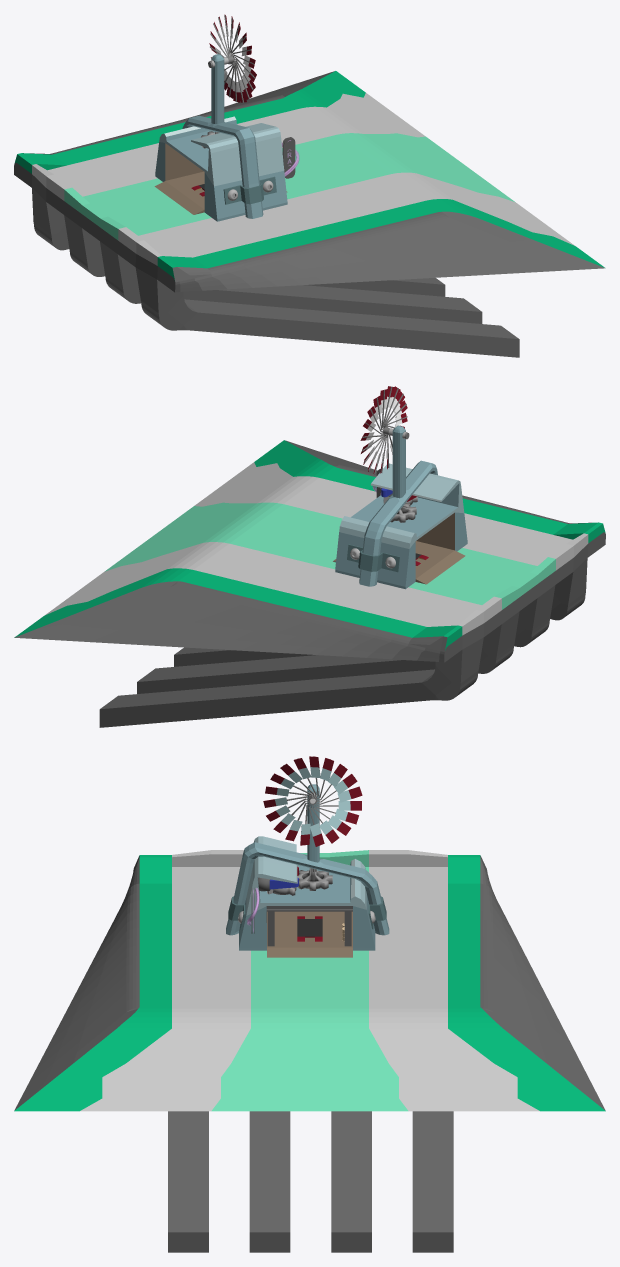
Rendered from garage.fbx.
The picture shows the model from 3 angles, top to bottom: view 1: azimuth 30°, elevation 25°; view 2: azimuth 150°, elevation 25°; view 3: azimuth 270°, elevation 25°; orthographic projection. The views are drawn at different scales.
Parts seen in each view (by area): view 1: ground, garage, pales, WindMillReincorcements; view 2: ground, garage, pales, WindMillReincorcements.001; view 3: ground, garage, pales.
Boxes of the visible parts, bbox=[...] form: ground: bbox=[14, 71, 605, 357]; garage: bbox=[154, 54, 287, 221]; pales: bbox=[208, 14, 256, 102]; WindMillReincorcements: bbox=[223, 176, 276, 204]; ground: bbox=[14, 440, 605, 727]; garage: bbox=[333, 425, 467, 589]; pales: bbox=[360, 386, 409, 474]; WindMillReincorcements.001: bbox=[347, 544, 399, 572]; ground: bbox=[14, 850, 605, 1252]; garage: bbox=[226, 784, 389, 957]; pales: bbox=[263, 756, 362, 846].
Size of the model in its own units: 209 by 181 by 257.
